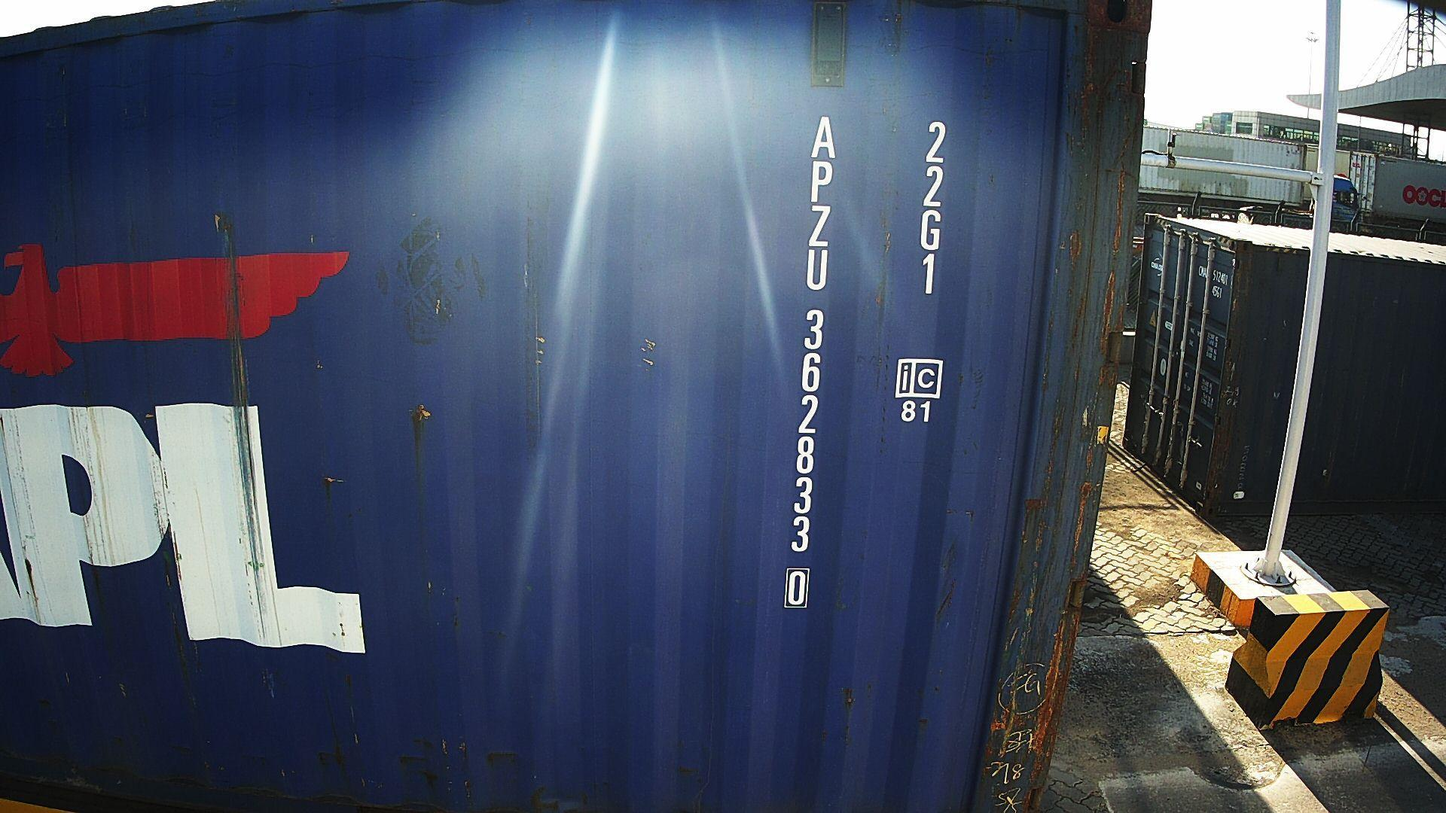container-numbers: (779, 110, 843, 619), (914, 118, 955, 305)
